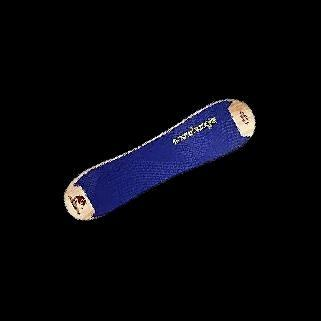Snowboard: (63, 97, 256, 221)
